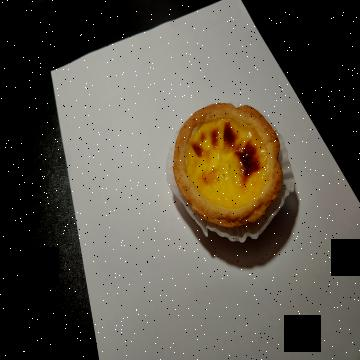EggTart: (173, 102, 284, 227)
